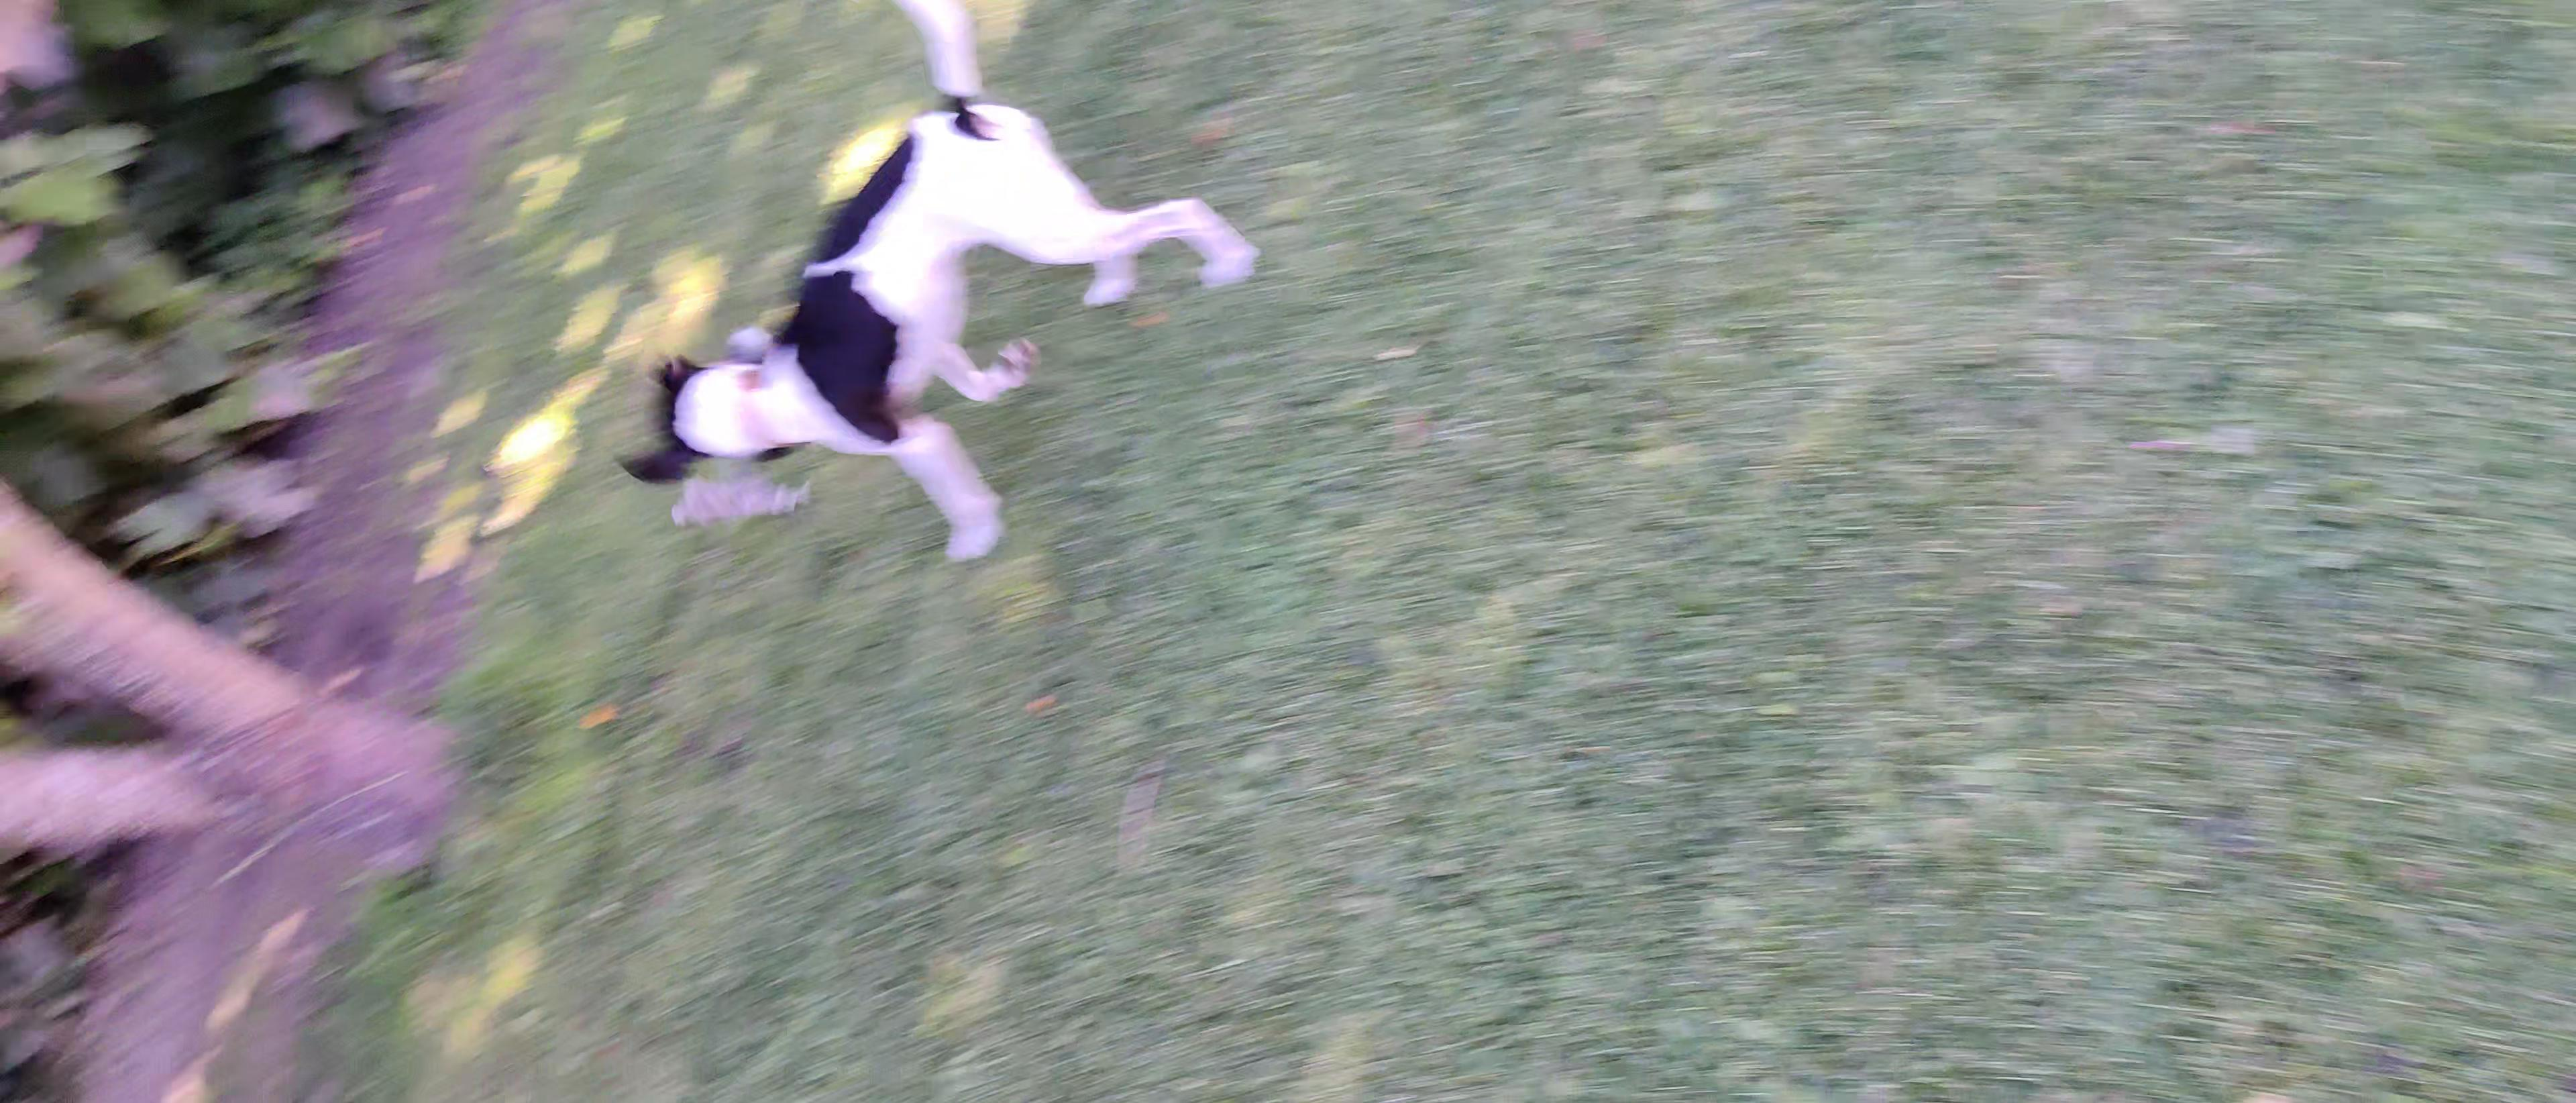Dog: (608, 0, 1260, 574)
